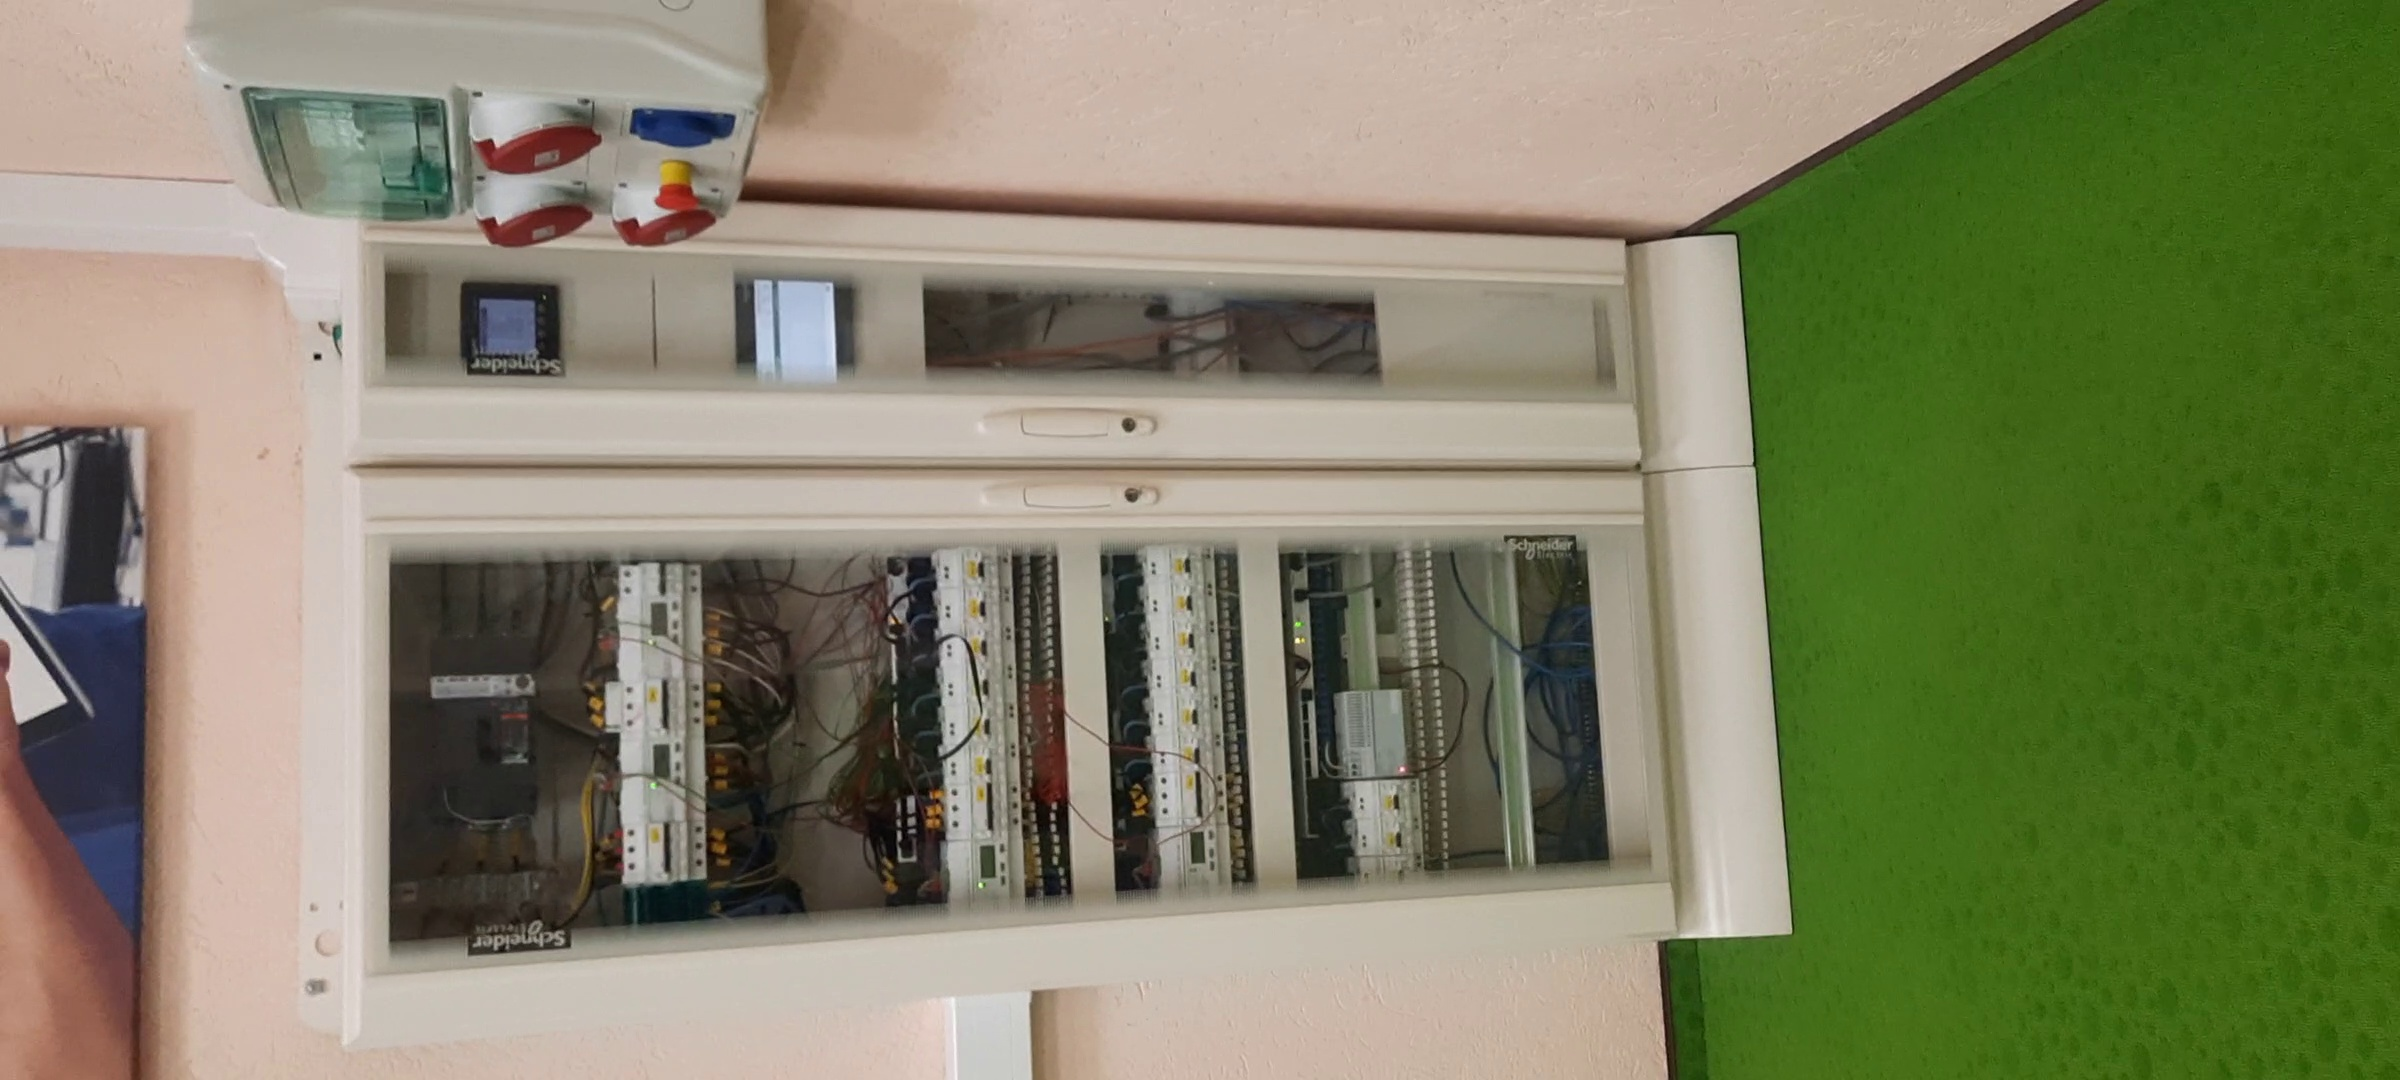stand1: (331, 226, 1788, 982)
